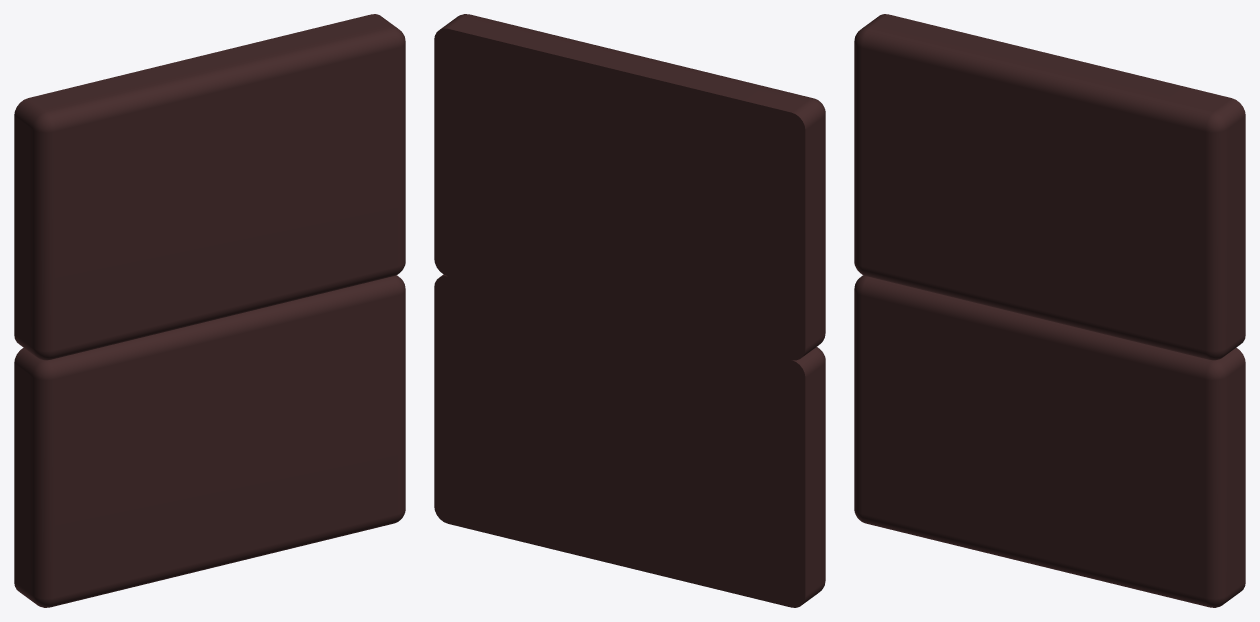
The model's file is KitchenBar_1_Drawer_2.fbx.
The picture shows the model from 3 angles, left to right: view 1: azimuth 30°, elevation 25°; view 2: azimuth 150°, elevation 25°; view 3: azimuth 330°, elevation 25°; orthographic projection.
Visible parts, largest first — view 1: pCube83, pCube84; view 2: pCube83, pCube84; view 3: pCube83, pCube84.
Boxes of the visible parts, x1,y1,x2,y2 form: pCube83: (14,14,405,360); pCube84: (14,275,405,607); pCube83: (434,14,825,360); pCube84: (434,274,825,607); pCube83: (854,14,1245,360); pCube84: (854,275,1245,607).
Size of the model in its own units: 13.02 by 16.59 by 1.6.
